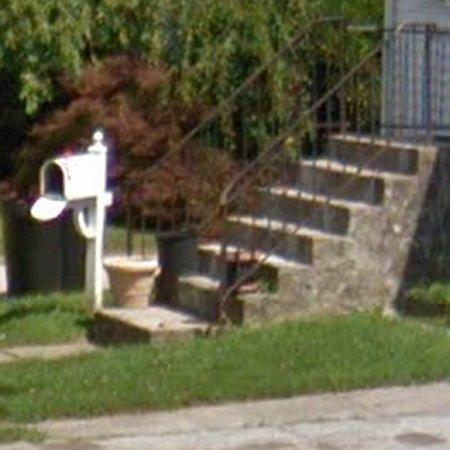stairs: (92, 135, 438, 342)
